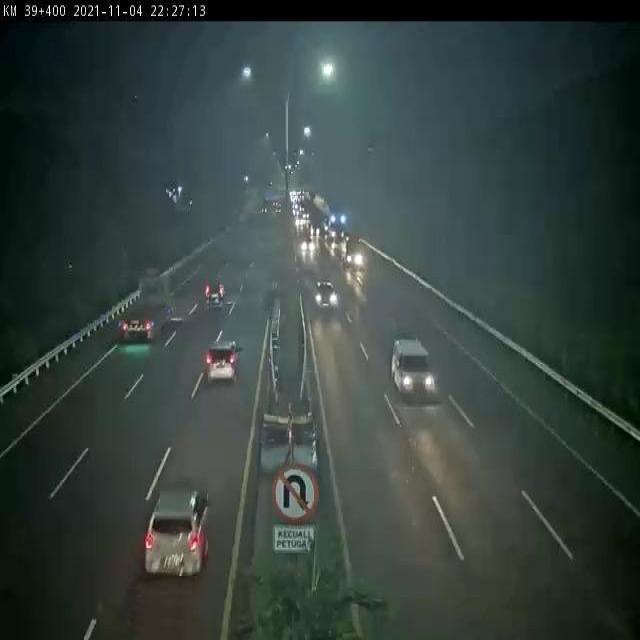car: (142, 484, 215, 576), (390, 336, 436, 399), (204, 338, 242, 382), (312, 279, 340, 313), (202, 275, 229, 309)
truck-m-: (117, 272, 178, 343)
